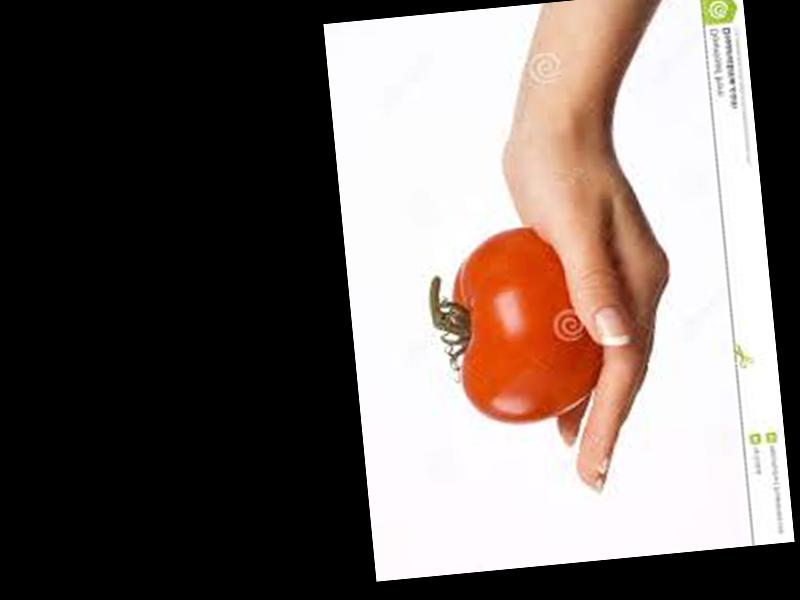Tomato: (447, 221, 607, 428)
